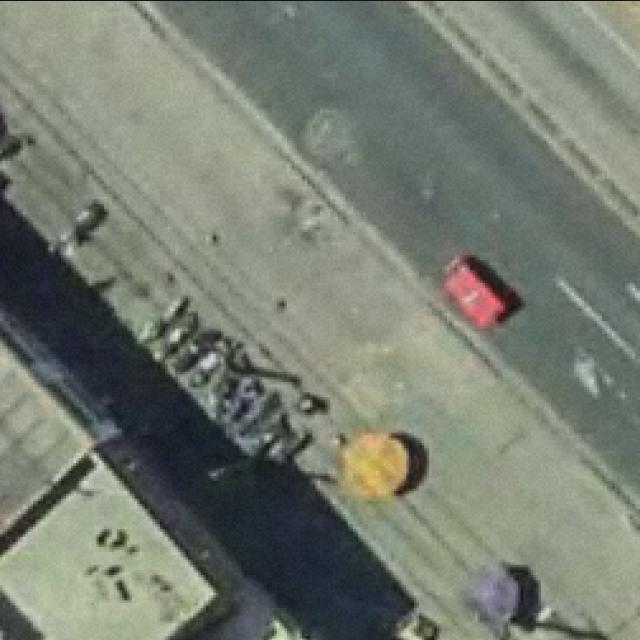vendedor_ambulante: (454, 554, 526, 638), (340, 430, 418, 502)
